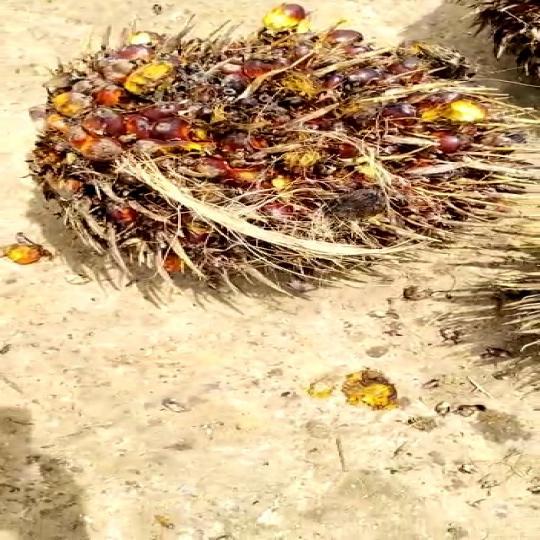terlalu masak: (0, 0, 540, 300)
